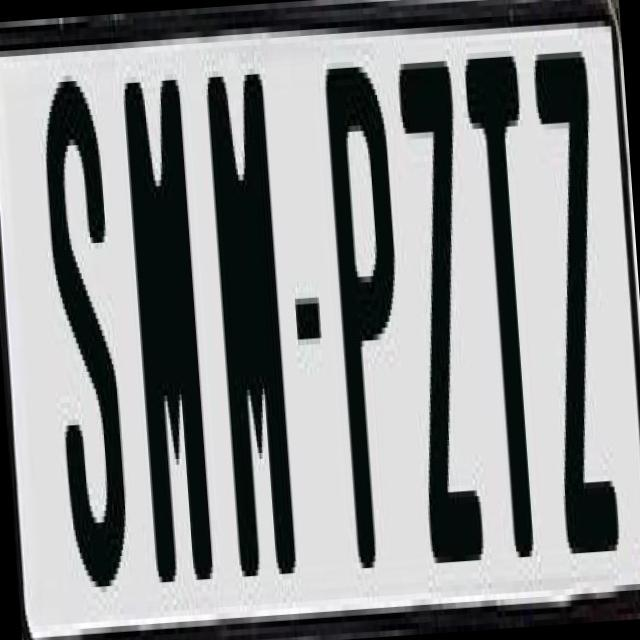M: (120, 67, 216, 571), (199, 56, 292, 560)
P: (321, 59, 422, 586)
S: (36, 67, 132, 600)
T: (458, 55, 552, 559)
Z: (532, 51, 628, 566), (392, 60, 483, 581)
